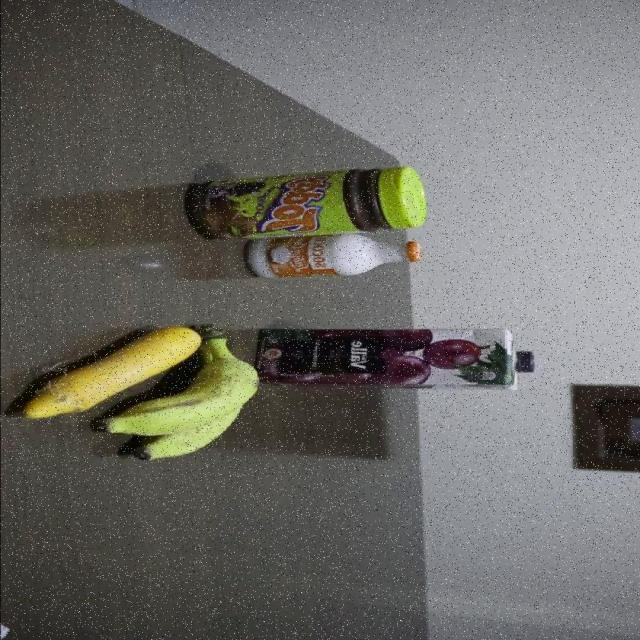Banana: (197, 328, 273, 474)
Carrot: (32, 325, 195, 412)
ChocolatePowder: (189, 168, 431, 236)
CoconutMilk: (244, 236, 430, 282)
